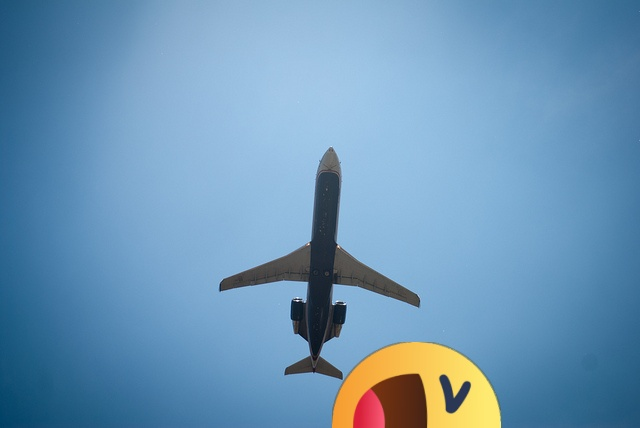haha: (332, 342, 501, 428)
